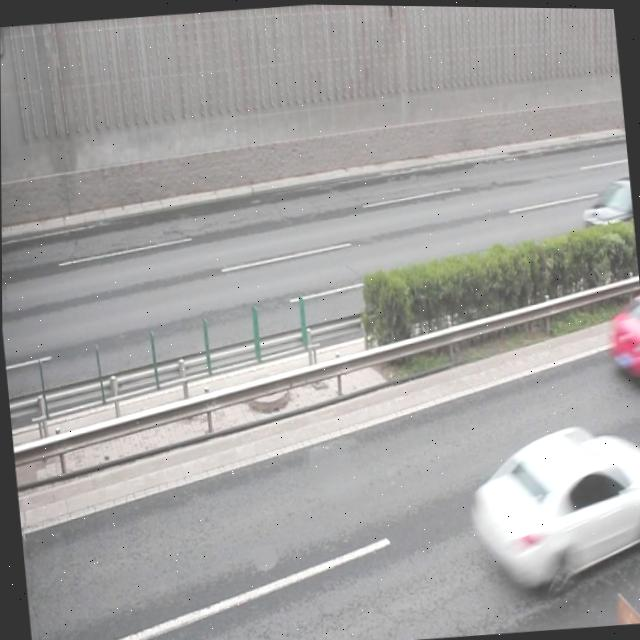car: (457, 415, 640, 593)
